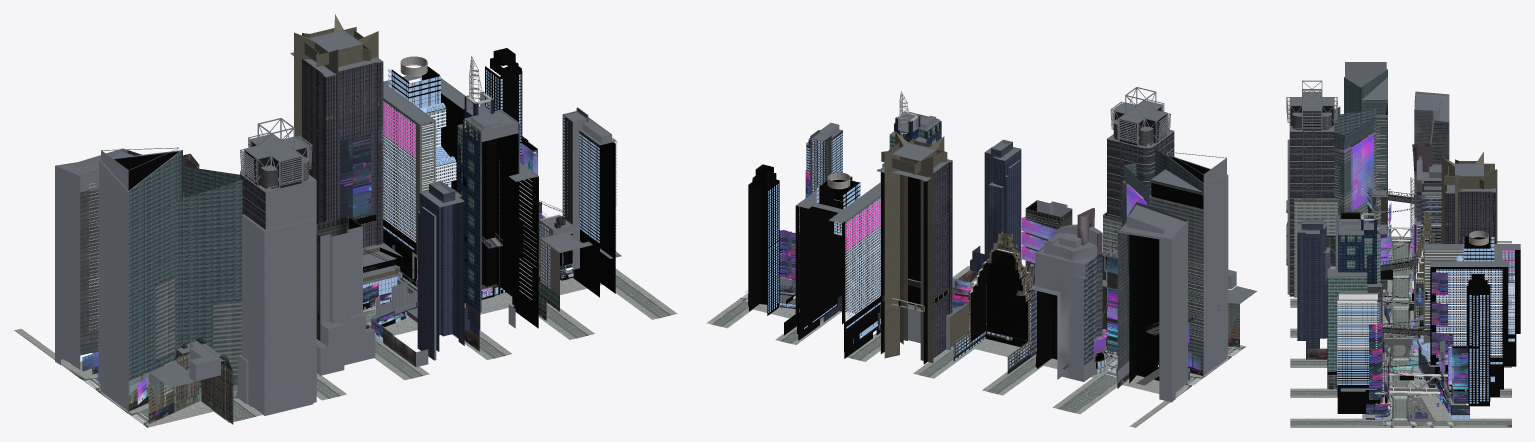
The model's file is 4marchcity-v1-transformed.glb.
3 views of the same model, side by side, from view 1: azimuth 30°, elevation 25°; view 2: azimuth 150°, elevation 25°; view 3: azimuth 270°, elevation 25° (orthographic). The views are drawn at different scales.
Parts seen in each view (by area): view 1: Object_14, Object_180, Object_26, Object_41, Object_32, Object_11, Plane.007, Object_186, Object_189; view 2: Object_14, Object_26, Object_180, Object_41, Object_32, Object_11, Plane.007, Object_186, Object_189; view 3: Object_180, Object_14, Object_26, Object_32, Object_41, Object_11, Plane.007, Cube.031, Object_186, Object_4, BézierCurve.062, Cube.046 (+1 smaller).
Boxes of the visible parts, x1,y1,x2,y2 form: Object_14: (55,30,621,415); Object_180: (80,58,538,406); Object_26: (114,48,615,328); Object_41: (92,14,615,424); Object_32: (14,214,677,427); Object_11: (340,107,587,314); Plane.007: (89,112,617,347); Object_186: (82,245,417,404); Object_189: (368,102,415,329); Object_14: (740,87,1257,402); Object_26: (748,156,1209,383); Object_180: (882,111,1210,370); Object_41: (806,101,1239,388); Object_32: (706,266,1246,427); Object_11: (748,130,1189,343); Plane.007: (799,139,1204,340); Object_186: (823,250,1200,380); Object_189: (845,127,1164,250); Object_180: (1289,69,1495,371); Object_14: (1286,62,1520,427); Object_26: (1326,103,1520,418); Object_32: (1290,241,1511,427); Object_41: (1286,106,1514,403); Object_11: (1339,133,1469,418); Plane.007: (1330,135,1514,357); Cube.031: (1380,191,1430,335); Object_186: (1367,191,1447,406); Object_4: (1388,227,1451,389); BézierCurve.062: (1381,208,1447,381); Cube.046: (1383,334,1418,357).
Size of the model in its own units: 29.8 by 20.82 by 15.74.
Materials: 22 (20 with a texture image).
